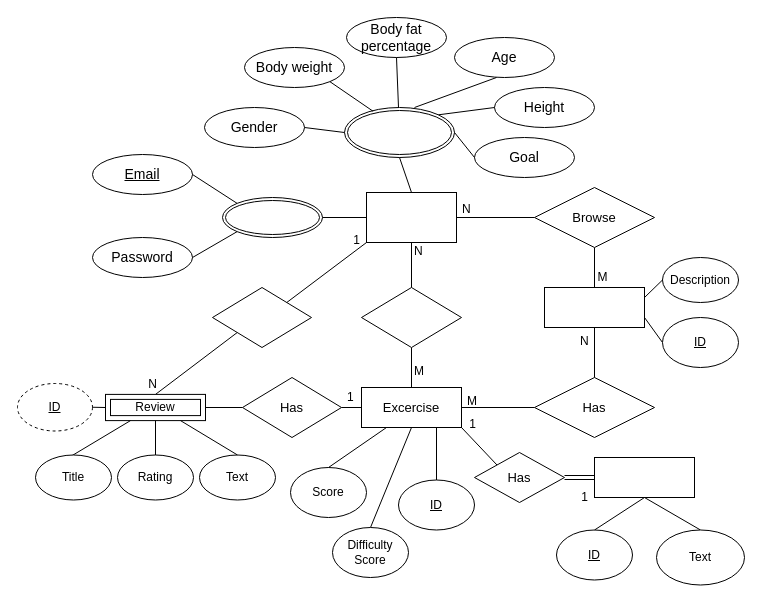
Image size: 762x603. Some labels were removed from this diagram. The shapes that lost their labels are listed below. From the top down, each one's box as (x1, y1, x2, y2) in pixels, then its label:
(344, 106, 454, 158): Personal body data
(222, 196, 322, 238): User credential
(366, 192, 456, 242): User
(212, 286, 312, 348): creates
(360, 286, 462, 348): saves
(544, 286, 644, 328): Muscles
(594, 456, 694, 498): Tips and tricks section
